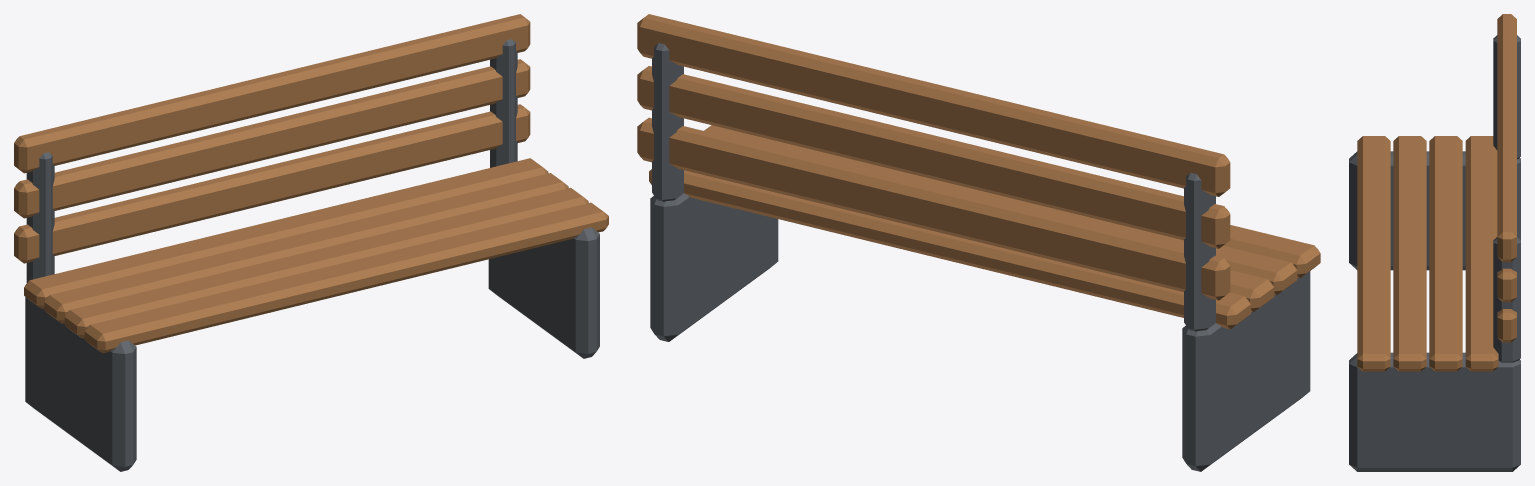
Rendered from VG_Bench.fbx.
The picture shows the model from 3 angles, left to right: view 1: azimuth 30°, elevation 25°; view 2: azimuth 150°, elevation 25°; view 3: azimuth 270°, elevation 25°; orthographic projection. The views are drawn at different scales.
Parts seen in each view (by area): view 1: VG_Bench_Mesh; view 2: VG_Bench_Mesh; view 3: VG_Bench_Mesh.
Part boxes in pixels (x1=…): VG_Bench_Mesh: x1=14, y1=14, x2=608, y2=471; VG_Bench_Mesh: x1=637, y1=14, x2=1320, y2=471; VG_Bench_Mesh: x1=1349, y1=14, x2=1520, y2=471.
Size of the model in its own units: 1.9 by 0.98 by 0.62.
